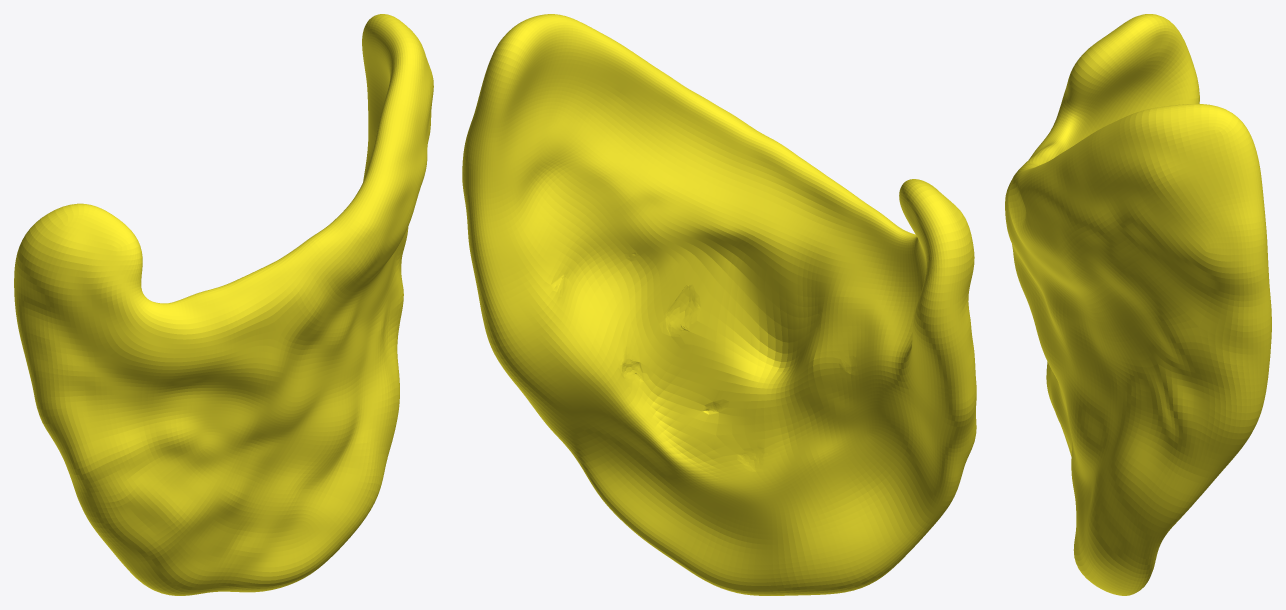
File: 3d-vh-m-omentum.glb
3 views of the same model, side by side, from view 1: azimuth 30°, elevation 25°; view 2: azimuth 150°, elevation 25°; view 3: azimuth 270°, elevation 25° (orthographic). The views are drawn at different scales.
Parts seen in each view (by area): view 1: VH_M_omentum; view 2: VH_M_omentum; view 3: VH_M_omentum.
Boxes of the visible parts, box(x1,y1,x2,y2) form: VH_M_omentum: box(14, 14, 433, 595); VH_M_omentum: box(462, 14, 976, 595); VH_M_omentum: box(1005, 14, 1271, 595).
Bounding box in the file's own units: 0.2857 × 0.3265 × 0.1397.
